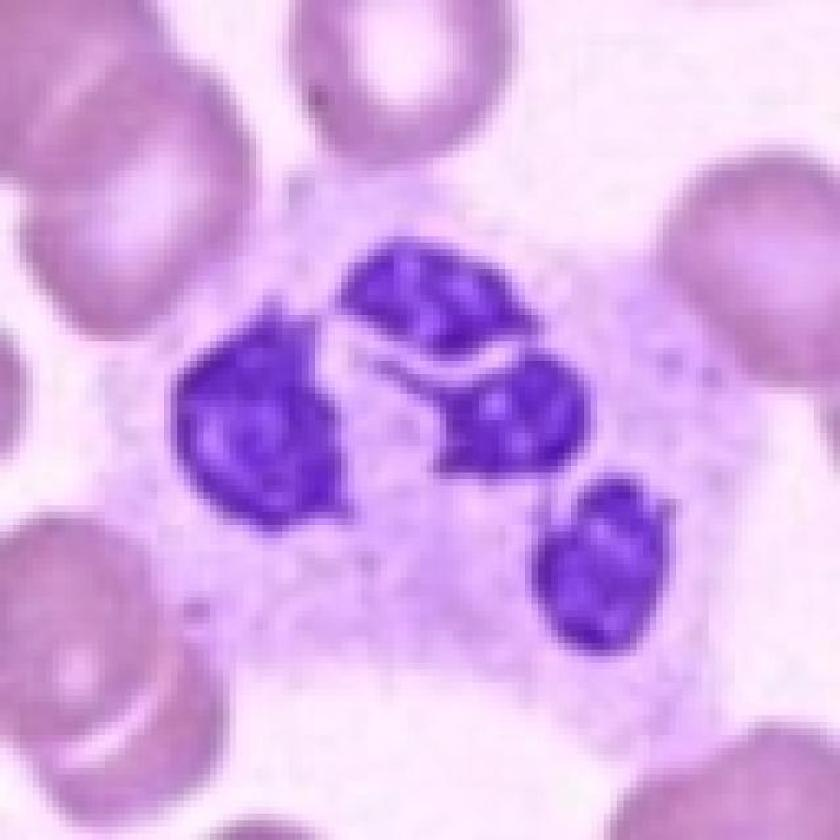neutrophil: (120, 172, 744, 756)
